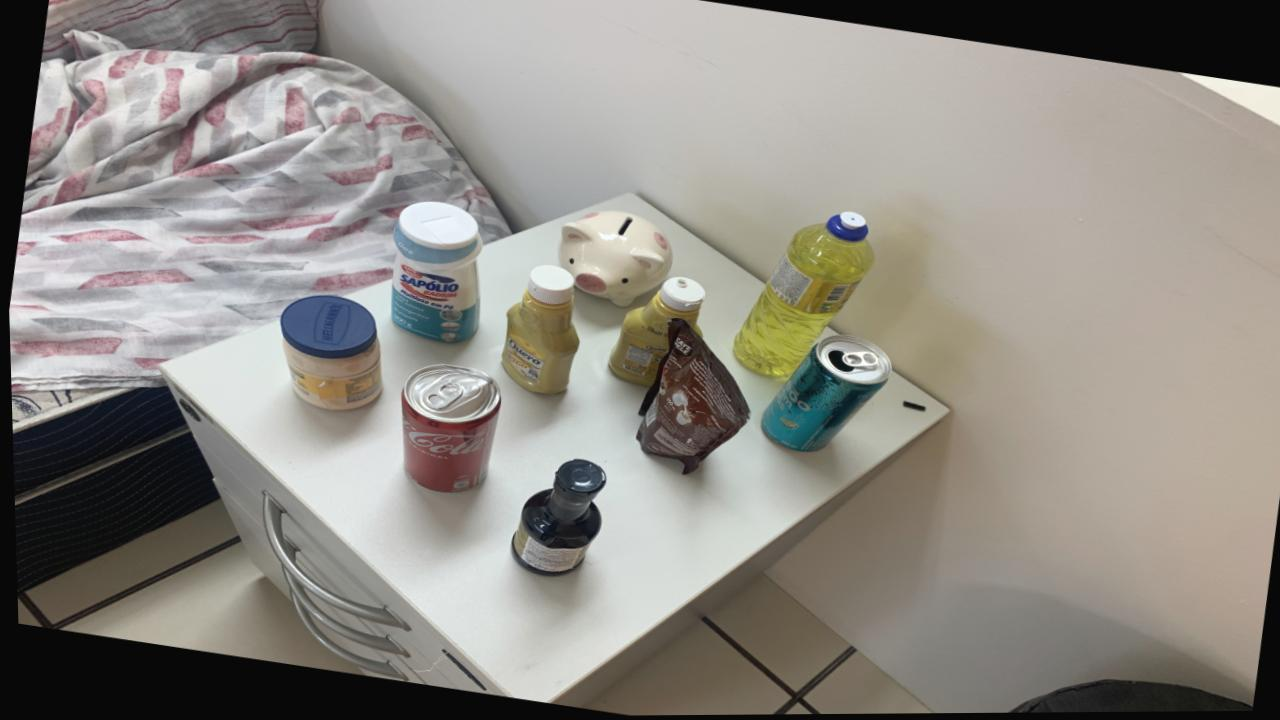Cleaner-Cleanup_Items: (389, 201, 480, 343)
Coffee-Pantry_Items: (632, 319, 747, 475)
Coke-Drinks: (399, 364, 498, 494)
Detergent-Cleanup_Items: (730, 214, 872, 378)
English_Sauce-Pantry_Items: (506, 459, 603, 577)
Mayonnaise-Pantry_Items: (278, 295, 380, 410)
Mustard-Pantry_Items: (607, 277, 703, 386), (499, 265, 577, 394)
Pig_Safe-Miscellaneous: (556, 211, 672, 307)
Tea-Drinks: (758, 335, 889, 453)
